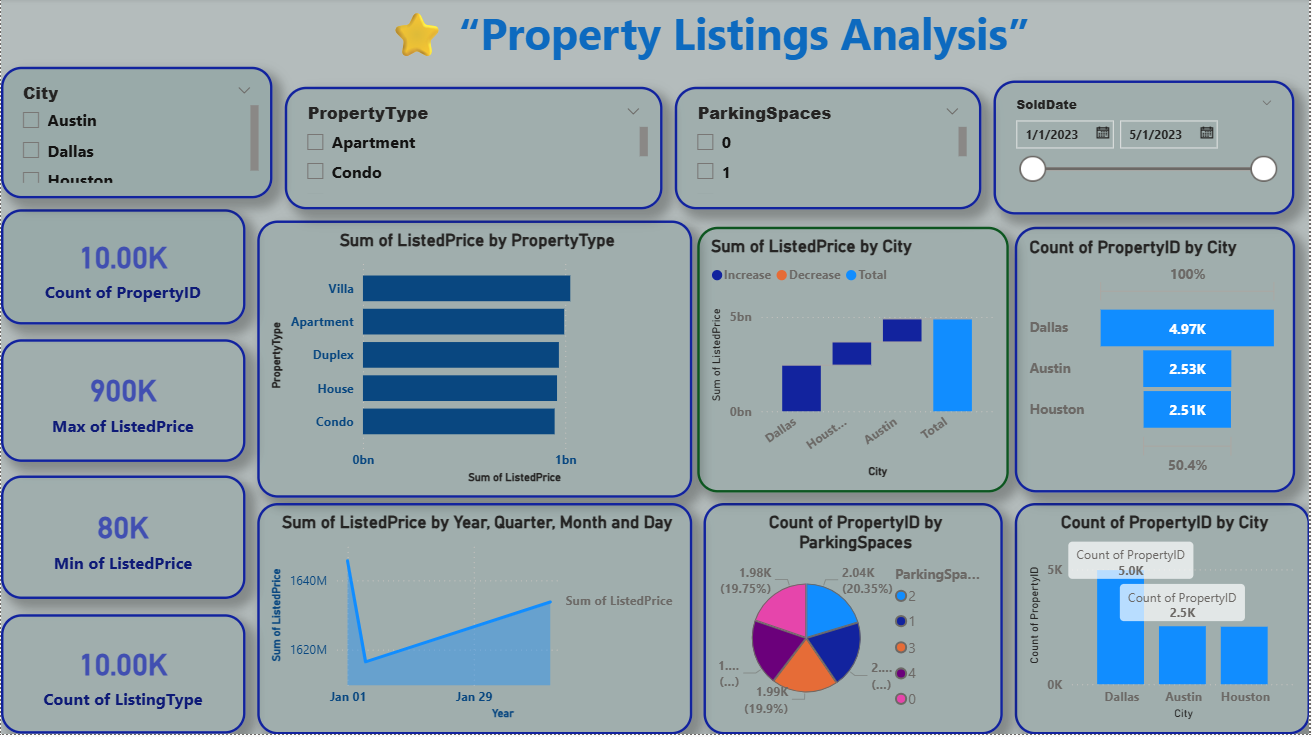

The dashboard page shown, as its layout file describes it:
{"tool":"powerbi","page":{"name":"Page 4","canvas":[1280,720],"ordinal":3},"visuals":[{"type":"card","fields":{"Values":["CountNonNull(Properties.PropertyID)"]},"box":[0,206.3,239.5,112.5],"z":0},{"type":"card","fields":{"Values":["Max(Properties.ListedPrice)"]},"box":[0,333.3,239.5,119.7],"z":1},{"type":"card","fields":{"Values":["Min(Properties.ListedPrice)"]},"box":[0,467.5,239.5,121.2],"z":2},{"type":"card","fields":{"Values":["CountNonNull(Properties.ListingType)"]},"box":[0,603.1,239.5,116.9],"z":3},{"type":"lineStackedColumnComboChart","fields":{"Category":["Properties.City"],"Y":["CountNonNull(Properties.PropertyID)"]},"box":[991.2,493.4,288.6,226.5],"z":4},{"type":"barChart","fields":{"Category":["Properties.PropertyType"],"Y":["Sum(Properties.ListedPrice)"]},"box":[251,217.9,425.6,271.2],"z":5},{"type":"areaChart","fields":{"Category":["Properties.ListingDate.Variation.Date Hierarchy.Year","Properties.ListingDate.Variation.Date Hierarchy.Quarter","Properties.ListingDate.Variation.Date Hierarchy.Month","Properties.ListingDate.Variation.Date Hierarchy.Day"],"Y":["Sum(Properties.ListedPrice)"]},"box":[251,493.4,425.6,226.5],"z":6},{"type":"pieChart","fields":{"Category":["Properties.ParkingSpaces"],"Y":["CountNonNull(Properties.PropertyID)"]},"box":[686.8,493.4,292.9,226.5],"z":7},{"type":"textbox","box":[265.5,0,852.7,80.8],"z":8},{"type":"waterfallChart","fields":{"Category":["Properties.City"],"Y":["Sum(Properties.ListedPrice)"]},"box":[681,223.6,304.4,259.7],"z":9},{"type":"funnel","fields":{"Category":["Properties.City"],"Y":["CountNonNull(Properties.PropertyID)"]},"box":[991.2,223.6,274.1,259.7],"z":10},{"type":"slicer","fields":{"Values":["Properties.City"]},"box":[0,67.8,265.5,128.4],"z":11},{"type":"slicer","fields":{"Values":["Properties.PropertyType"]},"box":[277,86.6,369.3,119.7],"z":12},{"type":"slicer","fields":{"Values":["Properties.ParkingSpaces"]},"box":[659.3,86.6,300.1,119.7],"z":13},{"type":"slicer","fields":{"Values":["Properties.SoldDate"]},"box":[971,80.8,294.3,131.3],"z":14}]}

Visuals, with their boxes in screenshot pixels (x1, y1, x2, y2), scaled from the page's 1280x720 canvas onto the 1312x737 screenshot:
card - CountNonNull(Properties.PropertyID): left=0, top=211, right=245, bottom=326
card - Max(Properties.ListedPrice): left=0, top=341, right=245, bottom=464
card - Min(Properties.ListedPrice): left=0, top=479, right=245, bottom=603
card - CountNonNull(Properties.ListingType): left=0, top=617, right=245, bottom=736
lineStackedColumnComboChart - Properties.City x CountNonNull(Properties.PropertyID): left=1016, top=505, right=1311, bottom=736
barChart - Properties.PropertyType x Sum(Properties.ListedPrice): left=257, top=223, right=694, bottom=501
areaChart - Properties.ListingDate.Variation.Date Hierarchy.Year x Properties.ListingDate.Variation.Date Hierarchy.Quarter: left=257, top=505, right=694, bottom=736
pieChart - Properties.ParkingSpaces x CountNonNull(Properties.PropertyID): left=704, top=505, right=1004, bottom=736
textbox: left=272, top=0, right=1146, bottom=83
waterfallChart - Properties.City x Sum(Properties.ListedPrice): left=698, top=229, right=1010, bottom=495
funnel - Properties.City x CountNonNull(Properties.PropertyID): left=1016, top=229, right=1297, bottom=495
slicer - Properties.City: left=0, top=69, right=272, bottom=201
slicer - Properties.PropertyType: left=284, top=89, right=662, bottom=211
slicer - Properties.ParkingSpaces: left=676, top=89, right=983, bottom=211
slicer - Properties.SoldDate: left=995, top=83, right=1297, bottom=217
